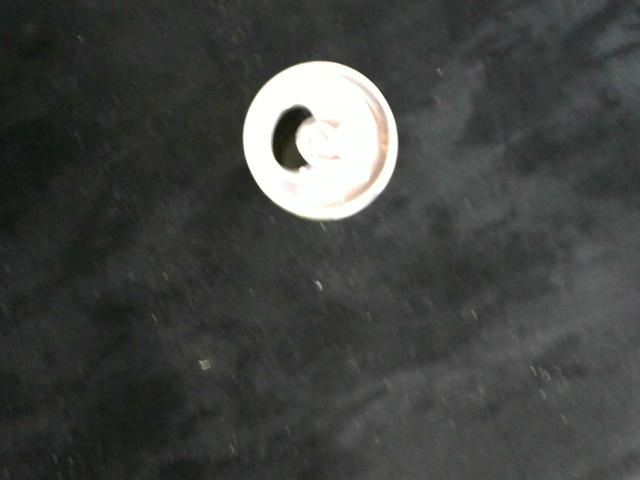can: (242, 60, 400, 223)
